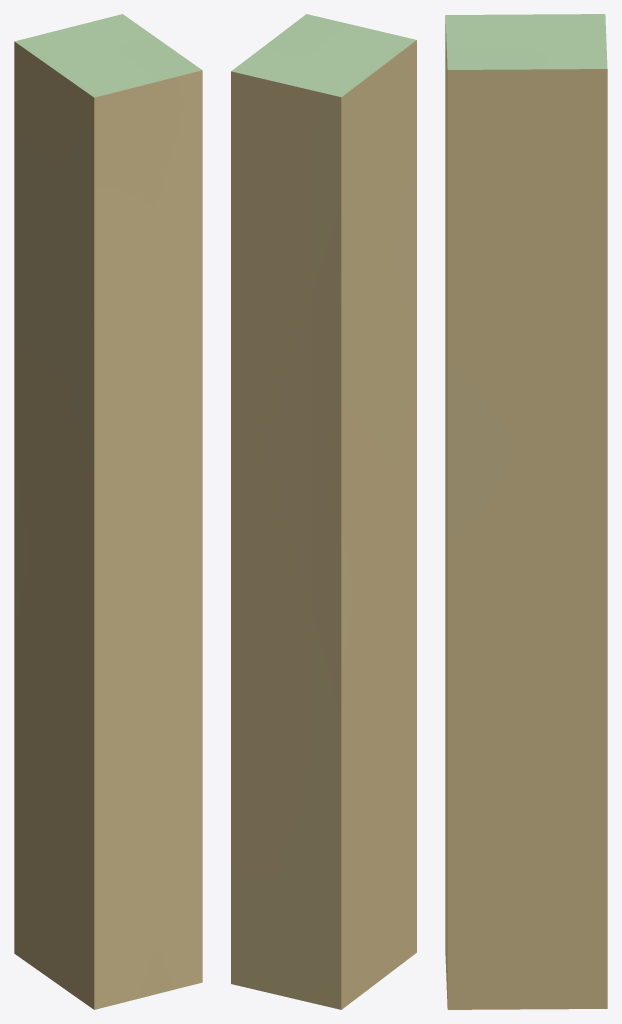
Rendered from Blocks-081.fbx.
3 views of the same model, side by side, from view 1: azimuth 30°, elevation 25°; view 2: azimuth 150°, elevation 25°; view 3: azimuth 270°, elevation 25° (orthographic). The views are drawn at different scales.
Parts seen in each view (by area): view 1: Blocks-081; view 2: Blocks-081; view 3: Blocks-081.
Boxes of the visible parts, bbox=[...] form: Blocks-081: bbox=[14, 14, 202, 1009]; Blocks-081: bbox=[231, 14, 416, 1009]; Blocks-081: bbox=[445, 14, 607, 1009].
Bounding box in the file's own units: 4446 × 34750 × 5430.
